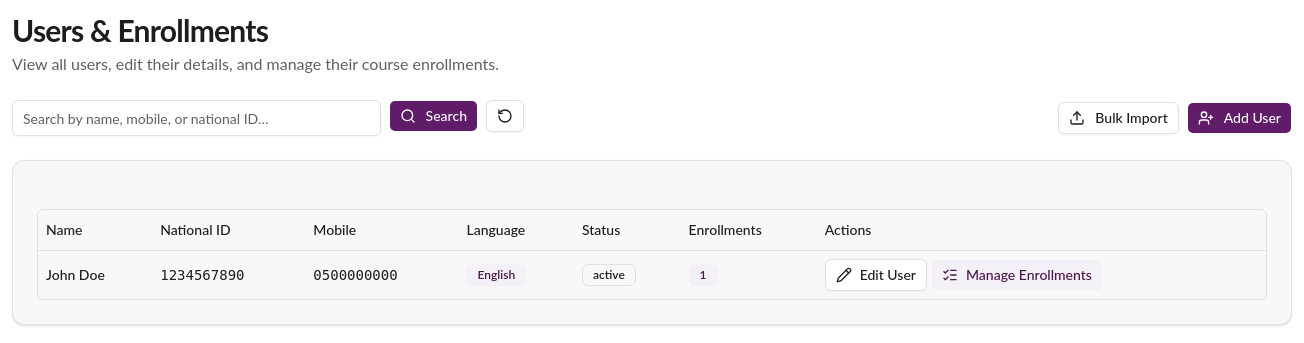
Test case: Enrollments Page › handles Enter key press in search input
The width and height of the screenshot is (1304, 343).
Type "test" into the field at (196, 118), box [12,100,381,136]
Then press Enter
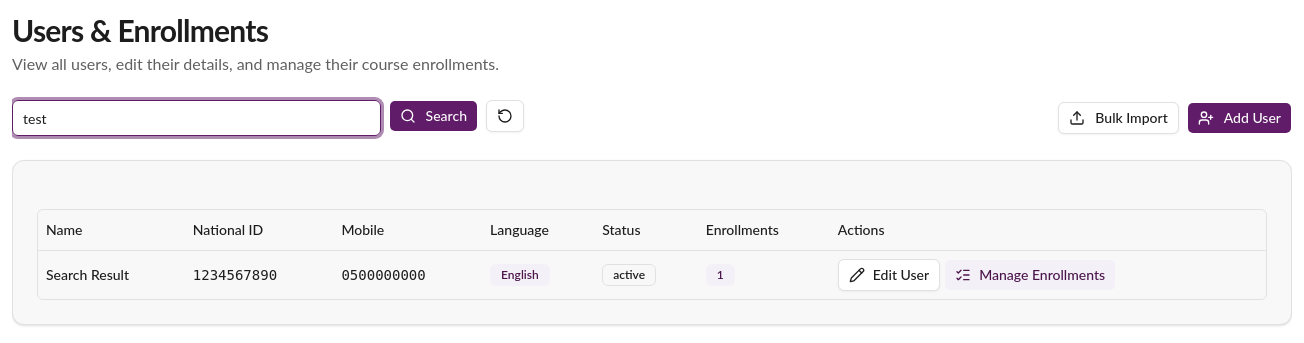
expect the text "Search Result" is shown: met, box [38,250,185,298]
